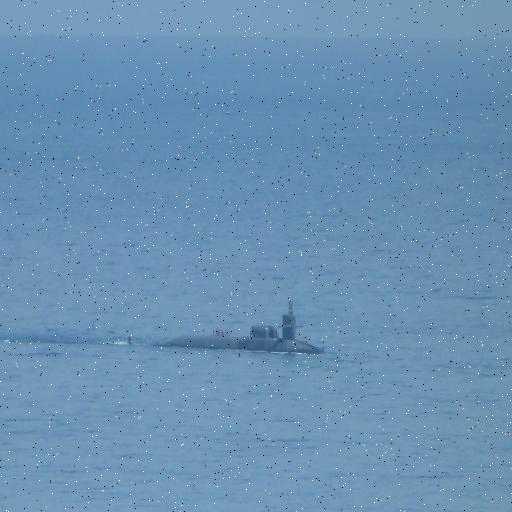submarine: (155, 296, 351, 347)
